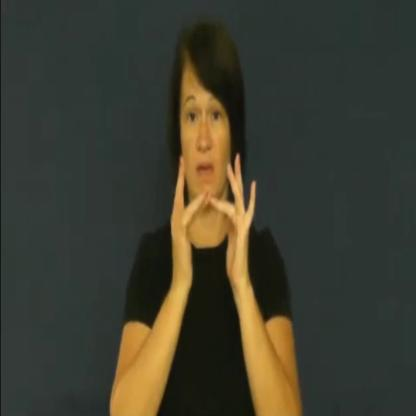Internet: (164, 146, 258, 311)
